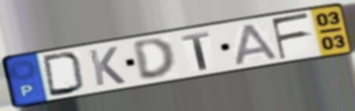A: (233, 22, 280, 67)
D: (40, 51, 87, 98), (131, 36, 178, 81)
F: (269, 11, 312, 61)
K: (86, 45, 128, 88)
T: (179, 30, 212, 72)
